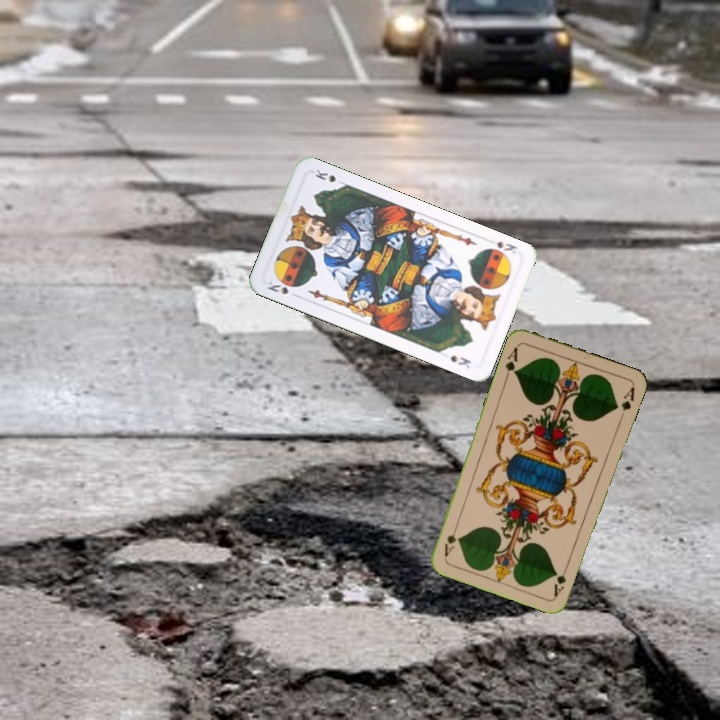GA: (550, 560, 571, 599), (501, 342, 521, 381)
SK: (263, 277, 301, 300), (493, 237, 520, 256)
